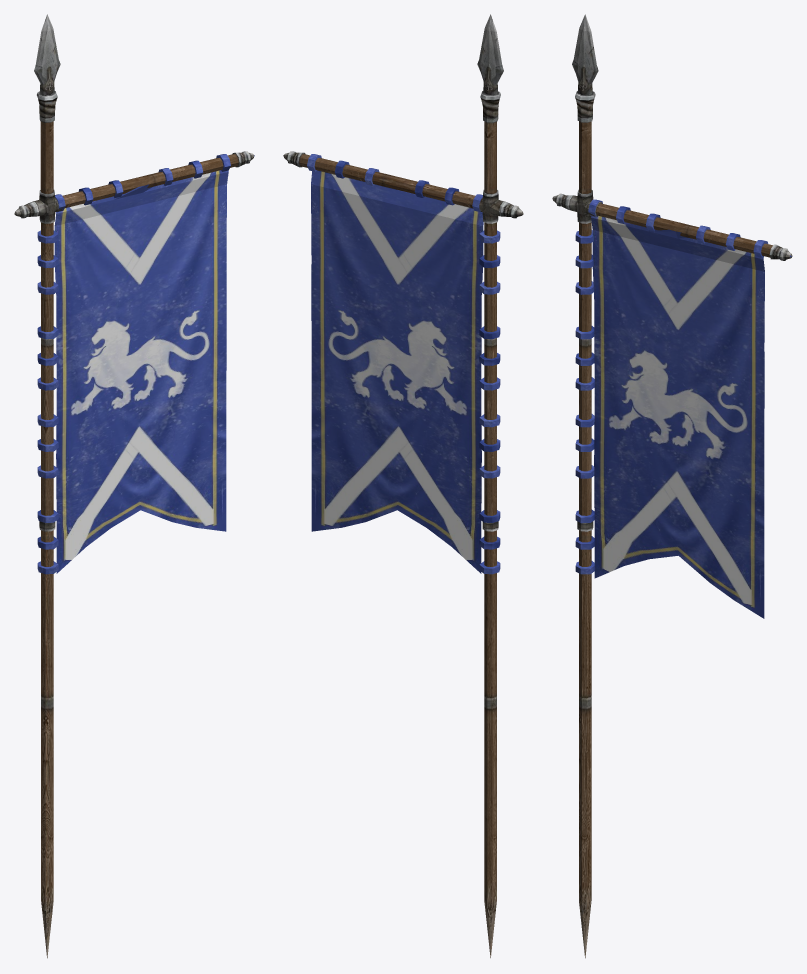
File: Flag.obj
The picture shows the model from 3 angles, left to right: view 1: azimuth 30°, elevation 25°; view 2: azimuth 150°, elevation 25°; view 3: azimuth 330°, elevation 25°; orthographic projection.
Bounding box in the file's own units: 35.48 × 133 × 2.85.
